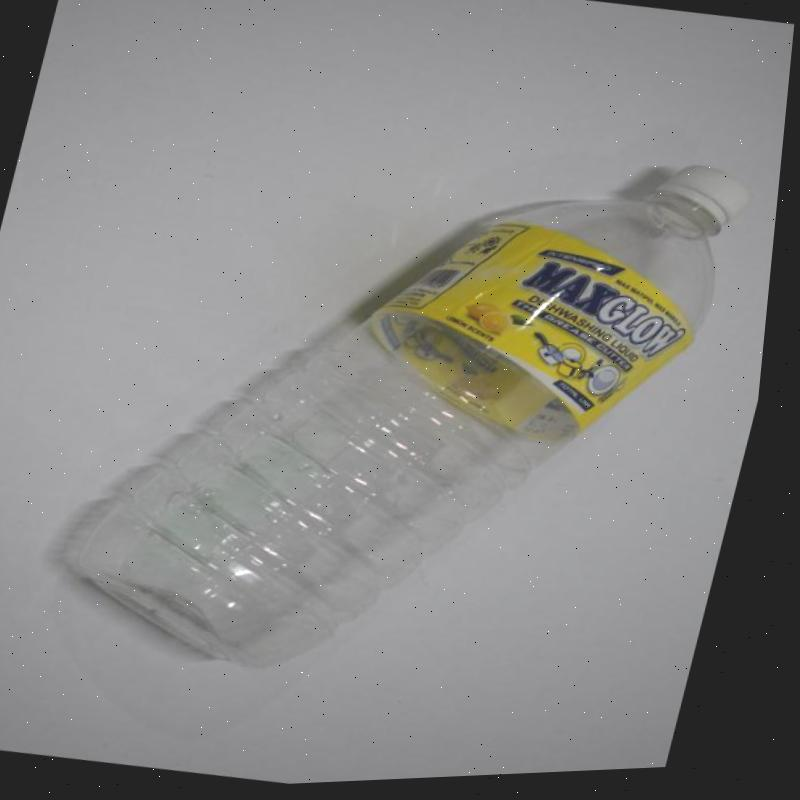botella: (60, 85, 771, 739)
